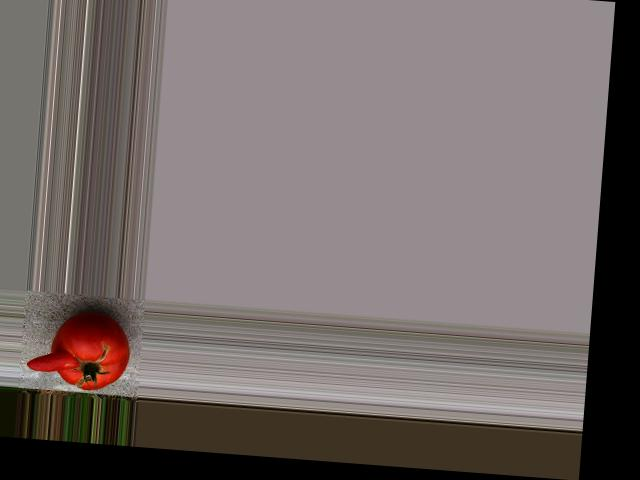tomato: (48, 311, 133, 392)
